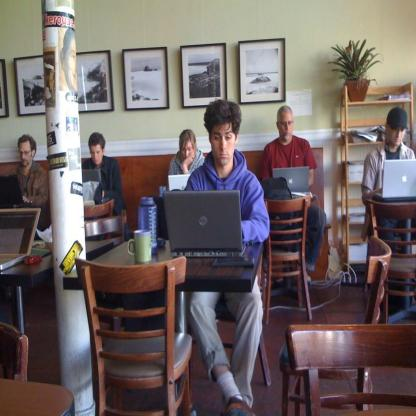board: (152, 182, 247, 267), (0, 209, 41, 270), (372, 159, 416, 198), (138, 197, 158, 255), (0, 175, 33, 207), (273, 166, 308, 190), (167, 174, 191, 190)
